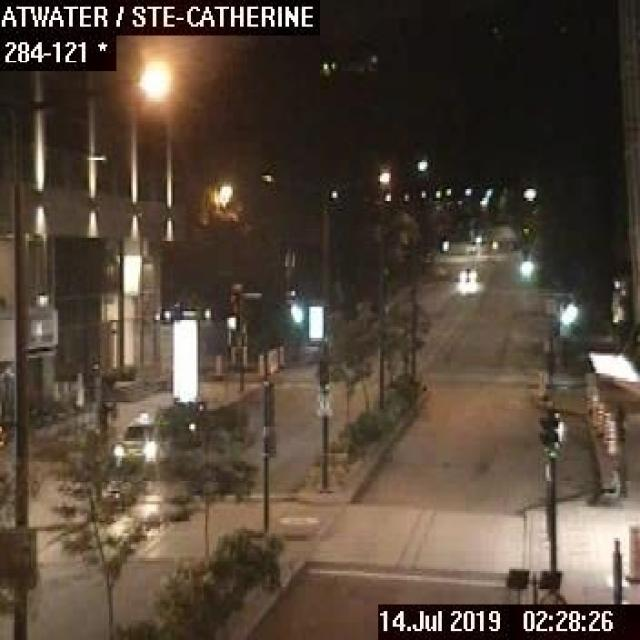construction: (623, 523, 638, 582), (607, 427, 616, 455), (590, 394, 597, 428), (602, 411, 609, 443), (595, 405, 601, 435), (256, 353, 262, 378), (277, 344, 283, 366), (266, 350, 271, 373), (270, 348, 274, 372), (274, 348, 278, 371)
vehicle: (115, 409, 158, 462), (454, 262, 476, 282)
